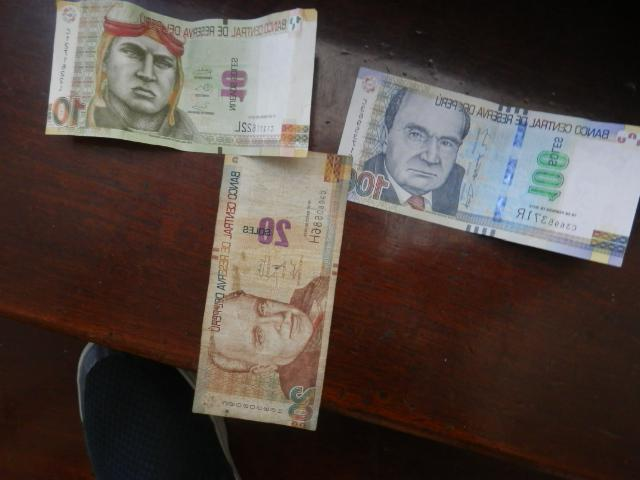B10: (51, 4, 318, 157)
B100: (337, 68, 640, 267)
B20: (199, 150, 350, 430)
